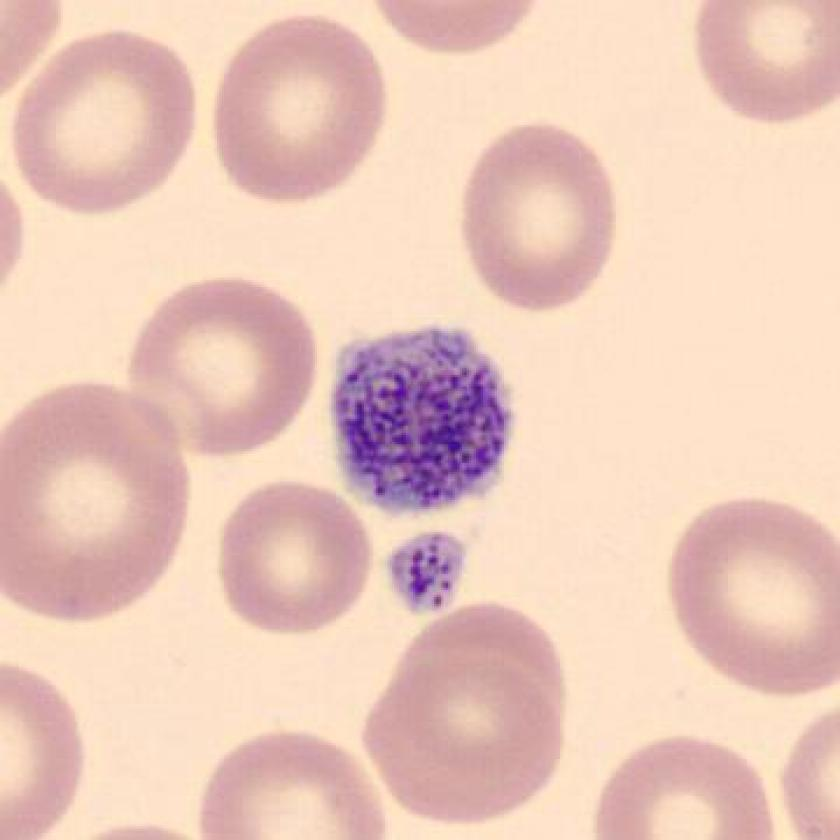platelets: (319, 316, 522, 533), (379, 522, 482, 631)
